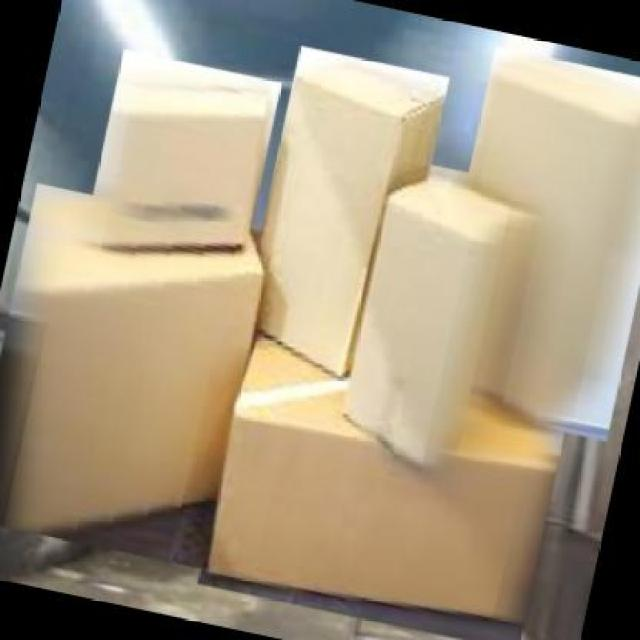box: (190, 335, 576, 640), (0, 177, 278, 574), (415, 40, 640, 446), (230, 39, 453, 401), (328, 152, 532, 494), (78, 46, 284, 286)
